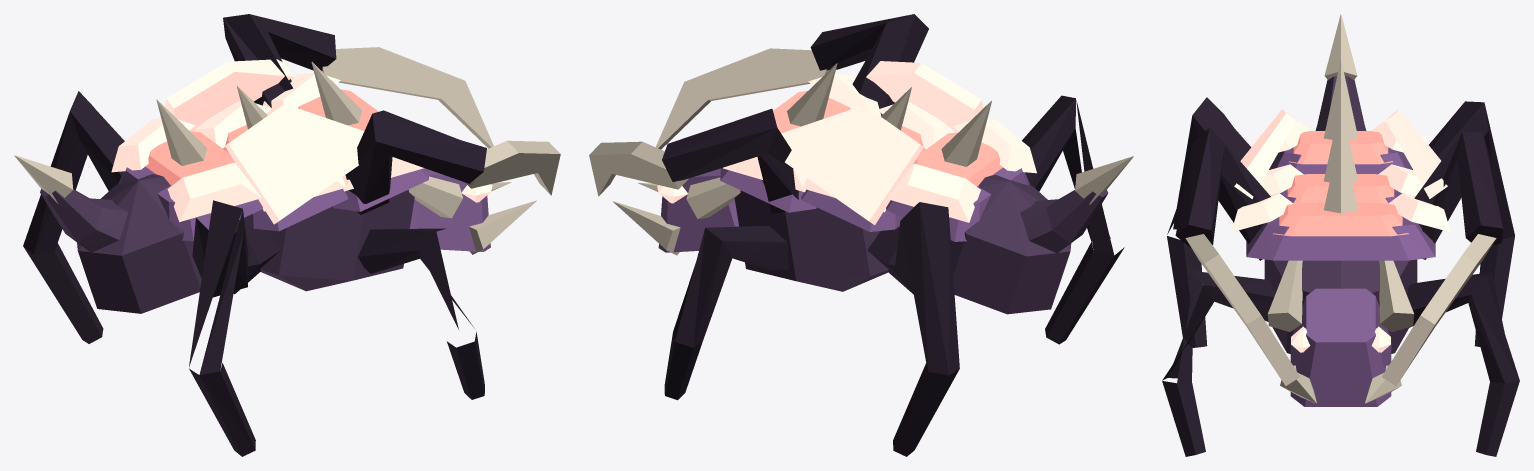
Rendered from skitterling.glb.
The picture shows the model from 3 angles, left to right: view 1: azimuth 30°, elevation 25°; view 2: azimuth 150°, elevation 25°; view 3: azimuth 270°, elevation 25°; orthographic projection. The views are drawn at different scales.
Parts seen in each view (by area): view 1: Surf_dark, Surf_GLOW, Surf_chitin, Surf_bone, Surf_light, Surf_TEAM; view 2: Surf_dark, Surf_GLOW, Surf_chitin, Surf_bone, Surf_light, Surf_TEAM; view 3: Surf_dark, Surf_bone, Surf_light, Surf_GLOW, Surf_TEAM, Surf_chitin.
Boxes of the visible parts, <box> form: Surf_dark: <box>23,14,486,456</box>; Surf_GLOW: <box>111,59,492,224</box>; Surf_chitin: <box>40,174,414,313</box>; Surf_bone: <box>14,47,560,254</box>; Surf_light: <box>118,166,490,251</box>; Surf_TEAM: <box>145,89,378,185</box>; Surf_dark: <box>662,14,1124,456</box>; Surf_GLOW: <box>657,61,1036,224</box>; Surf_chitin: <box>734,175,1108,314</box>; Surf_bone: <box>589,48,1133,255</box>; Surf_light: <box>658,167,1029,252</box>; Surf_TEAM: <box>773,90,1002,186</box>; Surf_dark: <box>1162,97,1519,456</box>; Surf_bone: <box>1185,14,1496,403</box>; Surf_light: <box>1246,147,1435,406</box>; Surf_GLOW: <box>1231,109,1450,352</box>; Surf_TEAM: <box>1273,131,1408,236</box>; Surf_chitin: <box>1264,76,1417,353</box>.
Bounding box in the file's own units: 1.78 × 1 × 1.14.
